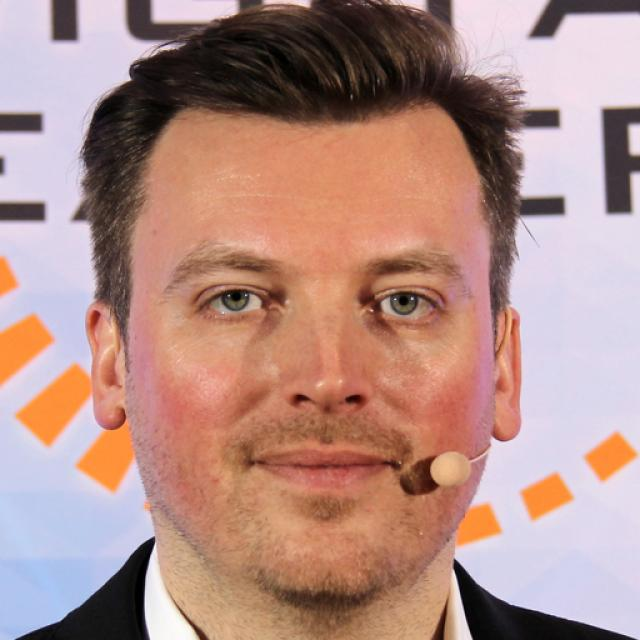Pigmentation: (371, 337, 437, 405)
